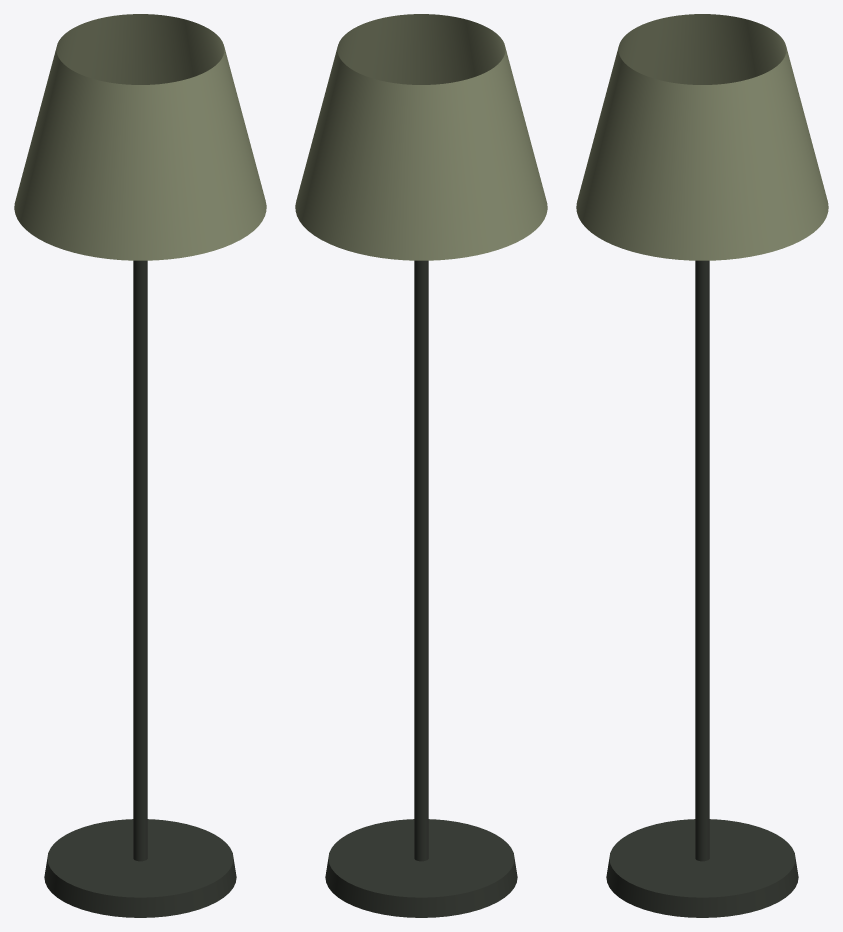
File: beam-lamp-olive.glb
The picture shows the model from 3 angles, left to right: view 1: azimuth 30°, elevation 25°; view 2: azimuth 150°, elevation 25°; view 3: azimuth 270°, elevation 25°; orthographic projection.
Parts seen in each view (by area): view 1: The Beam Lamp — Olive; view 2: The Beam Lamp — Olive; view 3: The Beam Lamp — Olive.
Part boxes in pixels (bbox=[...]): The Beam Lamp — Olive: bbox=[14, 14, 266, 917]; The Beam Lamp — Olive: bbox=[295, 14, 547, 917]; The Beam Lamp — Olive: bbox=[576, 14, 828, 917].
Bounding box in the file's own units: 0.42 × 1.52 × 0.42.
